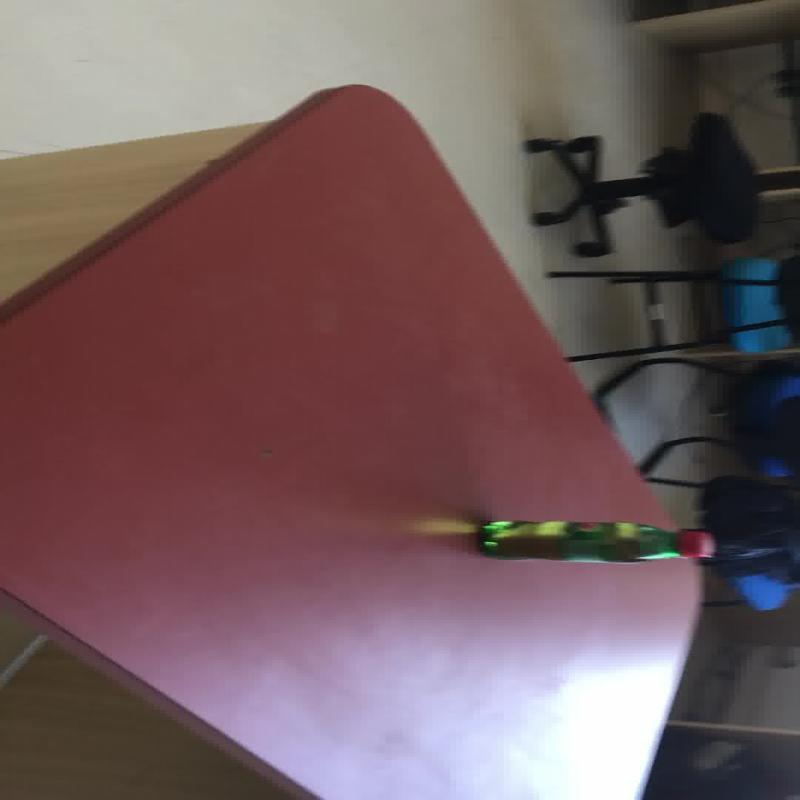guarana: (2, 82, 706, 796), (472, 518, 712, 563)
